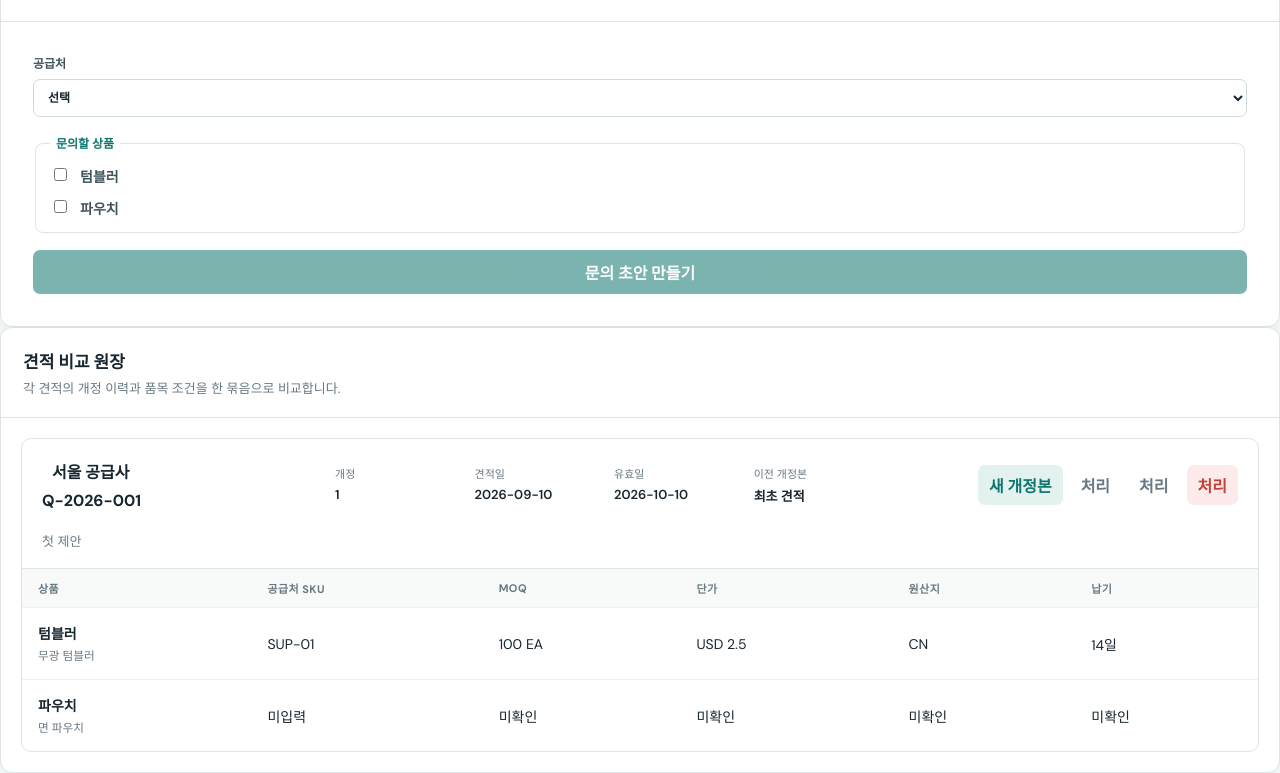
Scenario: RECEIVED 이후 정정은 견적번호와 모든 행을 보존한 새 개정본으로 생성한다
The width and height of the screenshot is (1280, 773).
Later steps or results of the test are not shown.
(page scrolled)
Click the button "새 개정본": [1020, 485] box x1=978 y1=465 x2=1063 y2=505
(page scrolled)
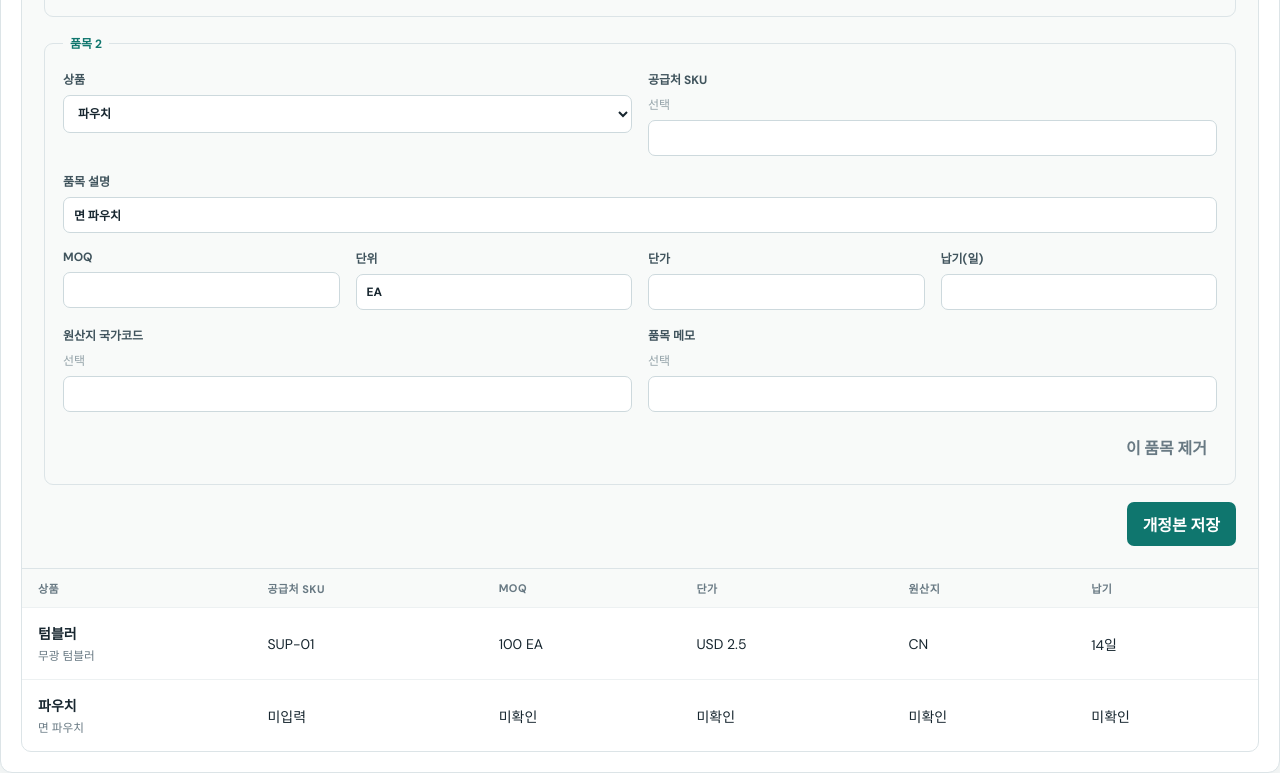
Expected: the number of fields labelled "품목 설명" is 2
